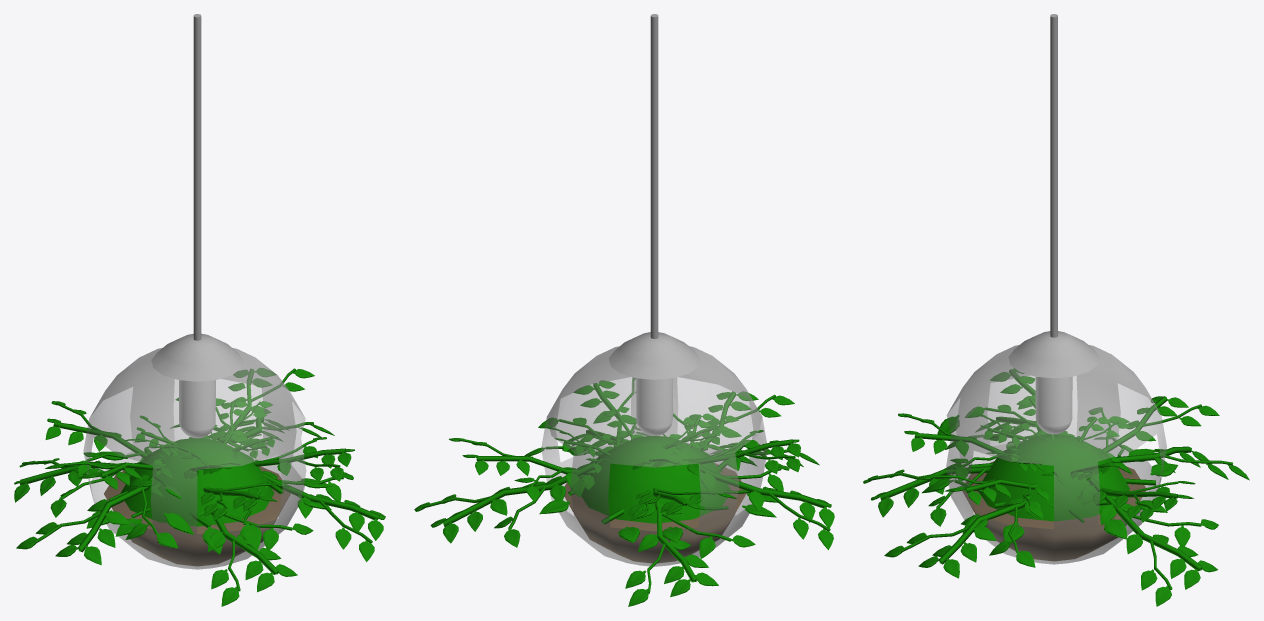
The model's file is KafeterianVäxterna.fbx.
The picture shows the model from 3 angles, left to right: view 1: azimuth 30°, elevation 25°; view 2: azimuth 150°, elevation 25°; view 3: azimuth 270°, elevation 25°; orthographic projection.
Visible parts, largest first — view 1: group19; view 2: group19; view 3: group19.
Part boxes in pixels (x1,y1,x2,y2): group19: (14, 14, 385, 606); group19: (414, 14, 834, 606); group19: (863, 14, 1249, 606).
Size of the model in its own units: 3.7 by 5.24 by 3.41.
